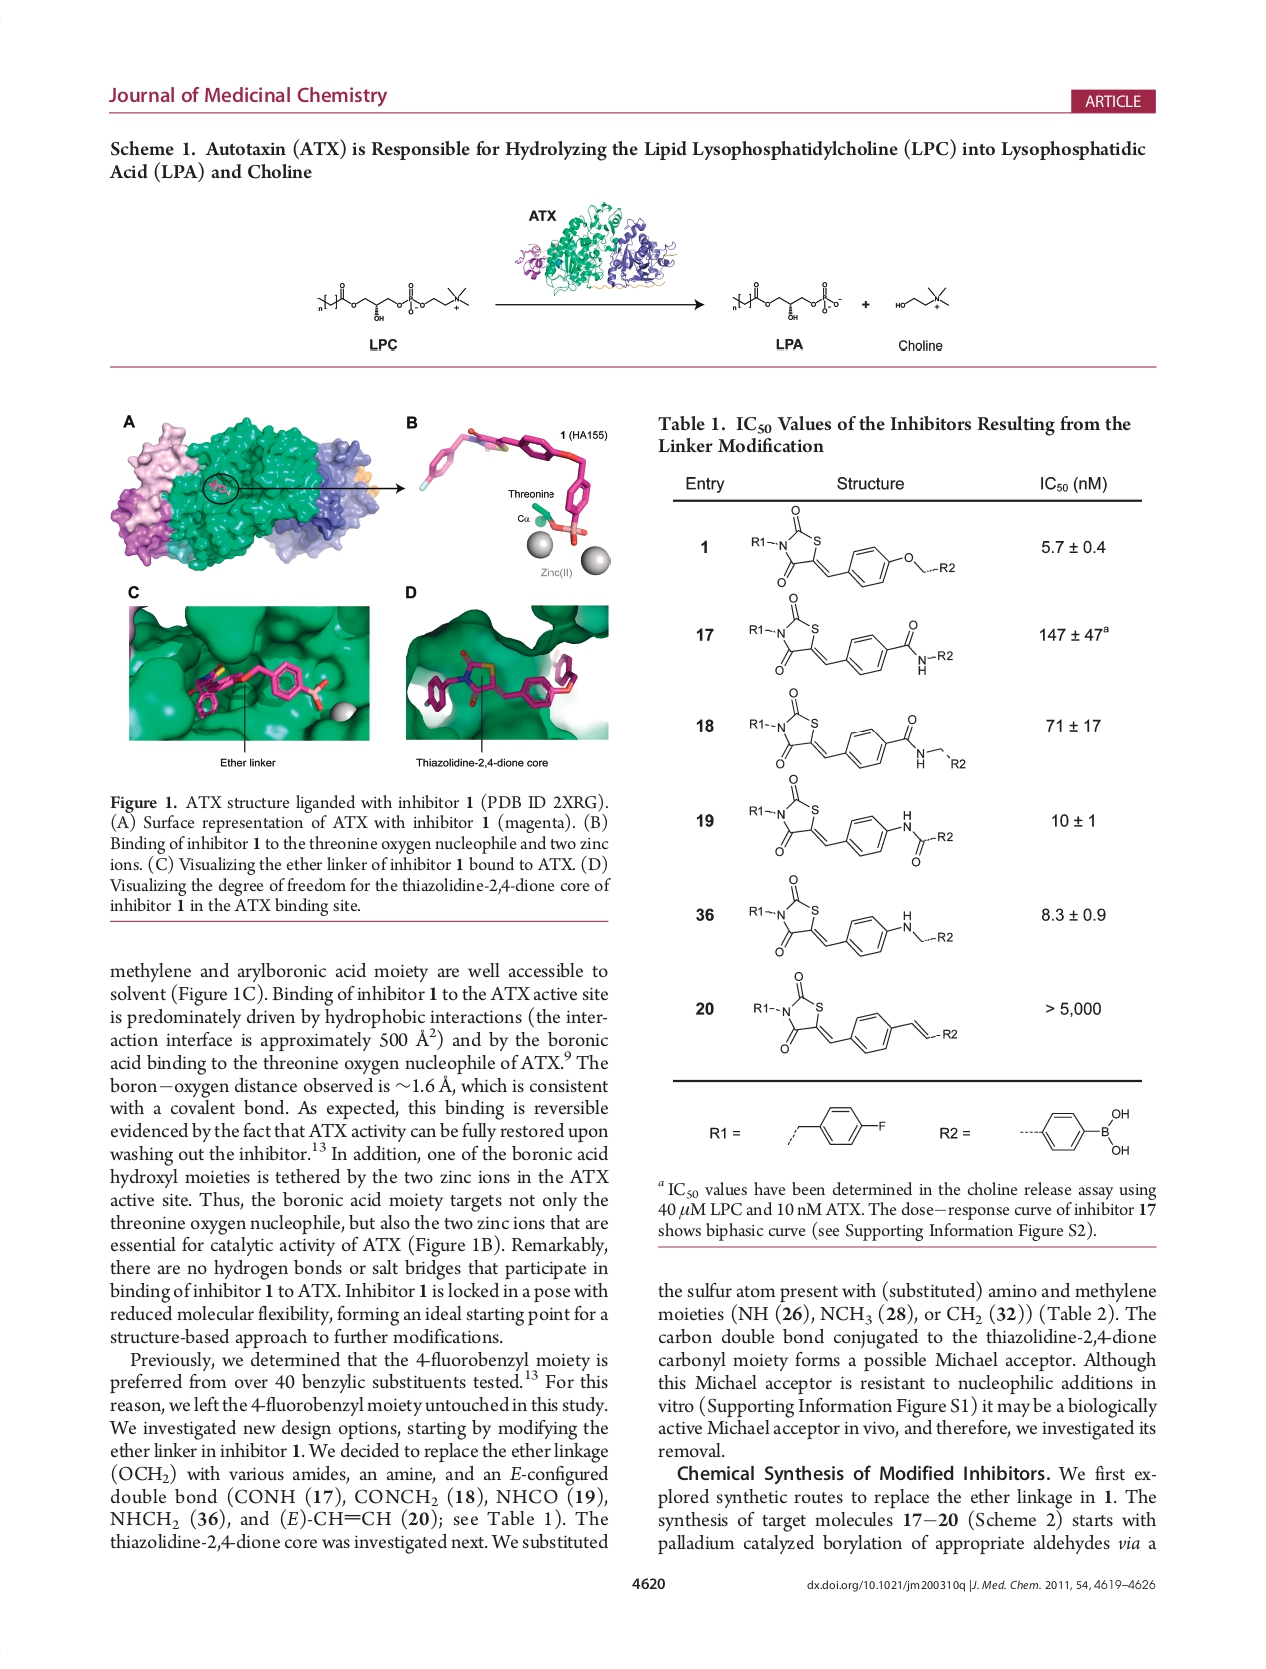exist_molecular: (746, 773, 956, 867), (747, 686, 969, 773), (747, 871, 956, 962), (751, 968, 961, 1057), (747, 590, 956, 677), (751, 504, 957, 590), (1012, 1100, 1136, 1165), (314, 278, 471, 324), (781, 1102, 890, 1153), (729, 279, 844, 324), (891, 285, 953, 313)
